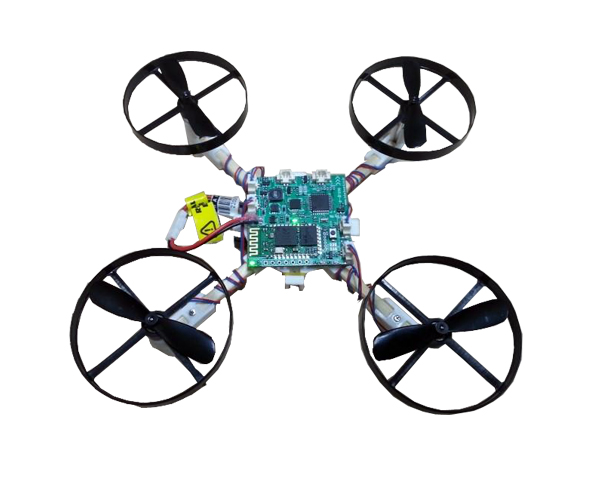drone: (65, 47, 530, 424)
